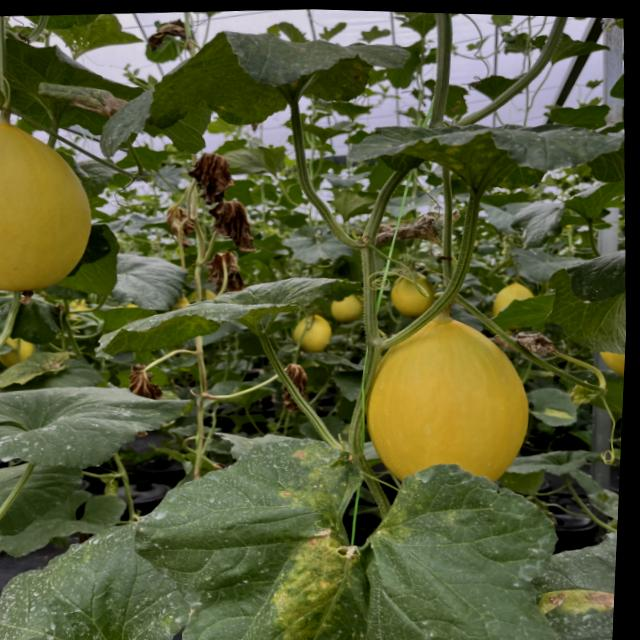CMV: (149, 14, 404, 142)
alternaria leaf blight: (532, 530, 617, 640)
bacterial wilt: (182, 143, 234, 205), (215, 195, 261, 246)
downy mildew: (124, 419, 569, 640), (343, 106, 629, 208), (0, 504, 191, 640), (0, 376, 180, 474)
